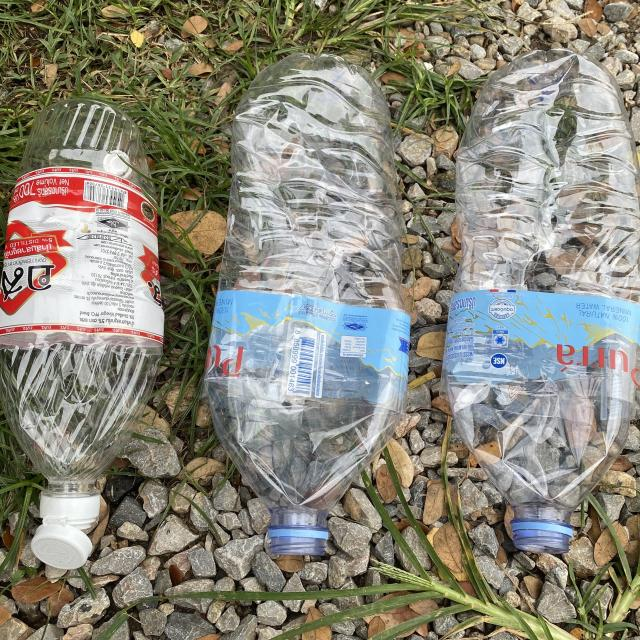plastik: (205, 54, 410, 555), (444, 50, 640, 553), (0, 98, 164, 569)
